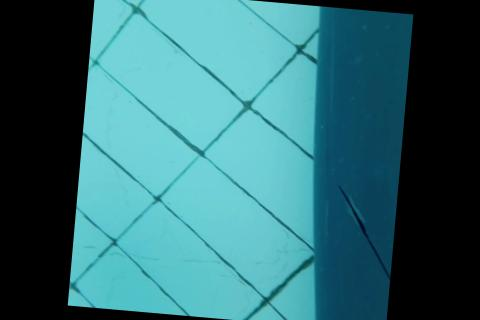keretakan: (329, 181, 398, 283)
